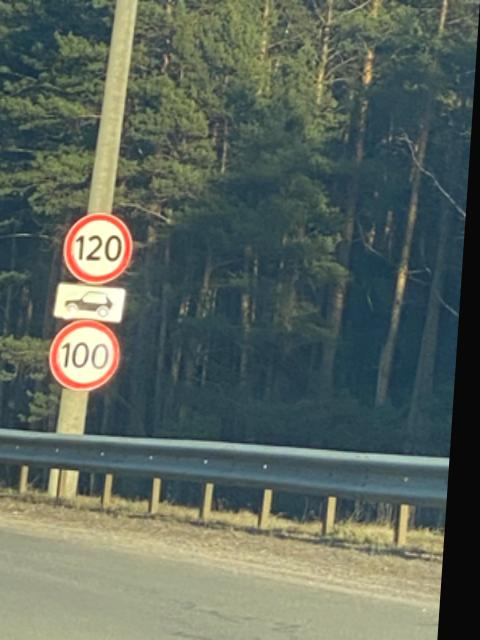limit100: (48, 314, 131, 392)
limit120: (65, 206, 141, 294)
